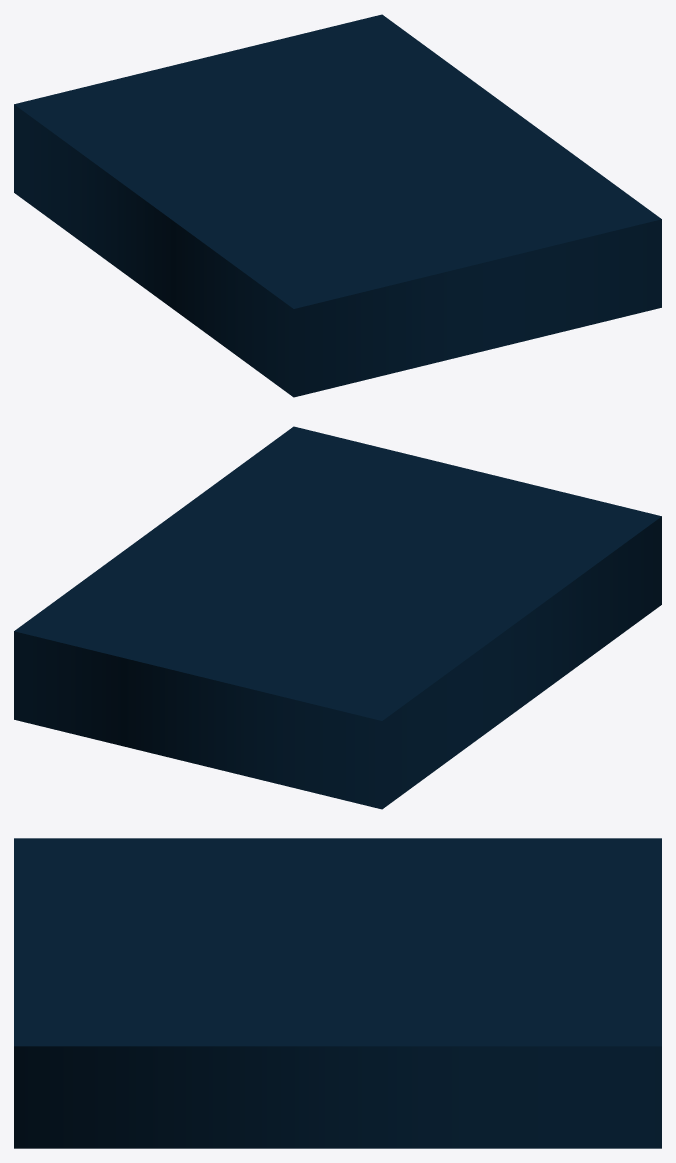
Rendered from firebase.gltf.
The picture shows the model from 3 angles, top to bottom: view 1: azimuth 30°, elevation 25°; view 2: azimuth 150°, elevation 25°; view 3: azimuth 270°, elevation 25°; orthographic projection. The views are drawn at different scales.
Visible parts, largest first — view 1: Cannon; view 2: Cannon; view 3: Cannon.
Boxes of the visible parts, x1,y1,x2,y2 form: Cannon: [14, 14, 661, 397]; Cannon: [14, 426, 661, 809]; Cannon: [14, 838, 661, 1148].
Bounding box in the file's own units: 0.5227 × 0.12 × 0.6879.
